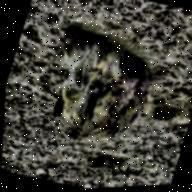boar: (33, 19, 172, 167)
